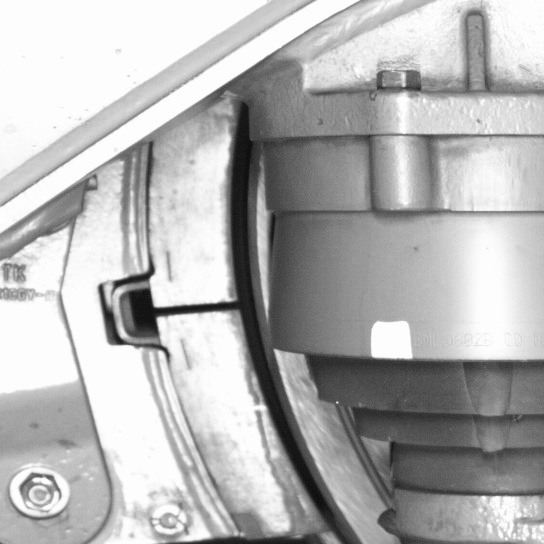KnifeSwitch: (145, 137, 365, 542)
